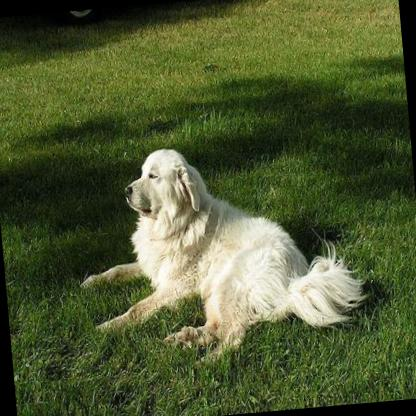Great_Pyrenees: (68, 131, 370, 367)
